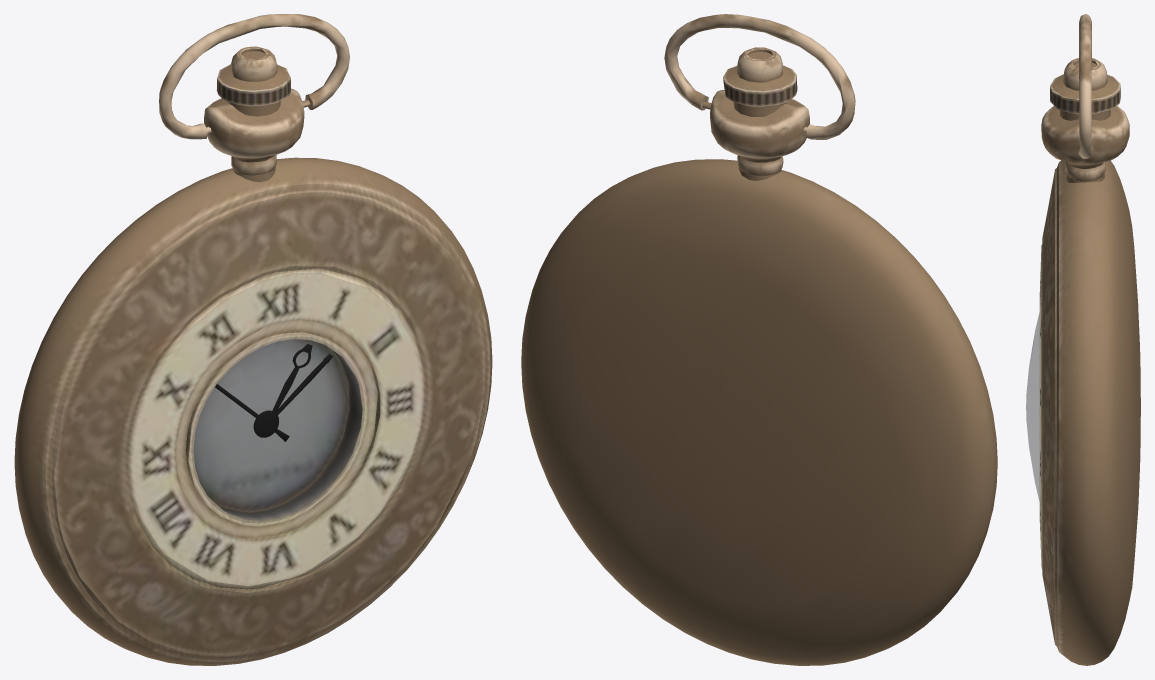
File: vintage_pocket_watch.glb
The picture shows the model from 3 angles, left to right: view 1: azimuth 30°, elevation 25°; view 2: azimuth 150°, elevation 25°; view 3: azimuth 270°, elevation 25°; orthographic projection. The views are drawn at different scales.
Parts seen in each view (by area): view 1: vintage_pocket_watch; view 2: vintage_pocket_watch; view 3: vintage_pocket_watch.
Boxes of the visible parts, left/top/right/bottom form: vintage_pocket_watch: left=14, top=14, right=492, bottom=665; vintage_pocket_watch: left=521, top=14, right=997, bottom=665; vintage_pocket_watch: left=1026, top=14, right=1140, bottom=665.
Bounding box in the file's own units: 0.0613 × 0.0799 × 0.0136.
Materials: 3 (1 with a texture image).
